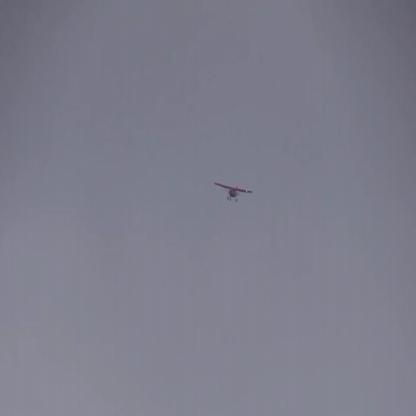CIV_Plane: (215, 182, 252, 203)
